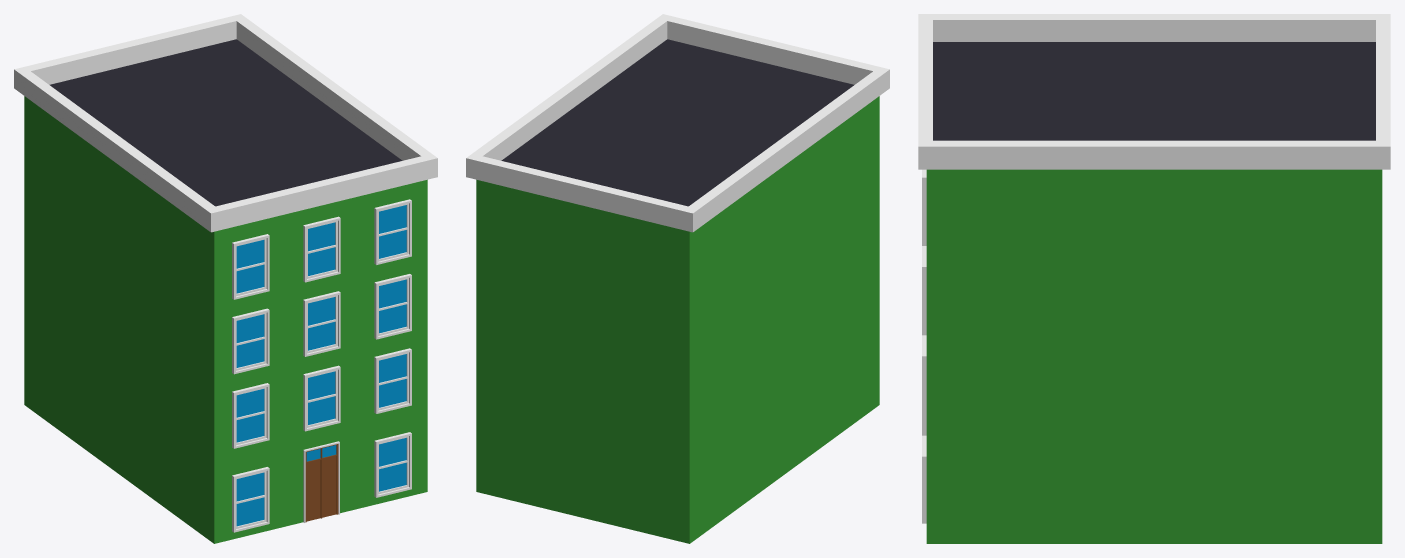
Rendered from Building_06.fbx.
The picture shows the model from 3 angles, left to right: view 1: azimuth 30°, elevation 25°; view 2: azimuth 150°, elevation 25°; view 3: azimuth 270°, elevation 25°; orthographic projection. The views are drawn at different scales.
Visible parts, largest first — view 1: B6; view 2: B6; view 3: B6.
Boxes of the visible parts, x1=… form: B6: x1=14, y1=14, x2=437, y2=543; B6: x1=466, y1=14, x2=889, y2=543; B6: x1=918, y1=14, x2=1390, y2=543.
Bounding box in the file's own units: 12.34 × 17.4 × 18.56.
1 material, 1 textured.
